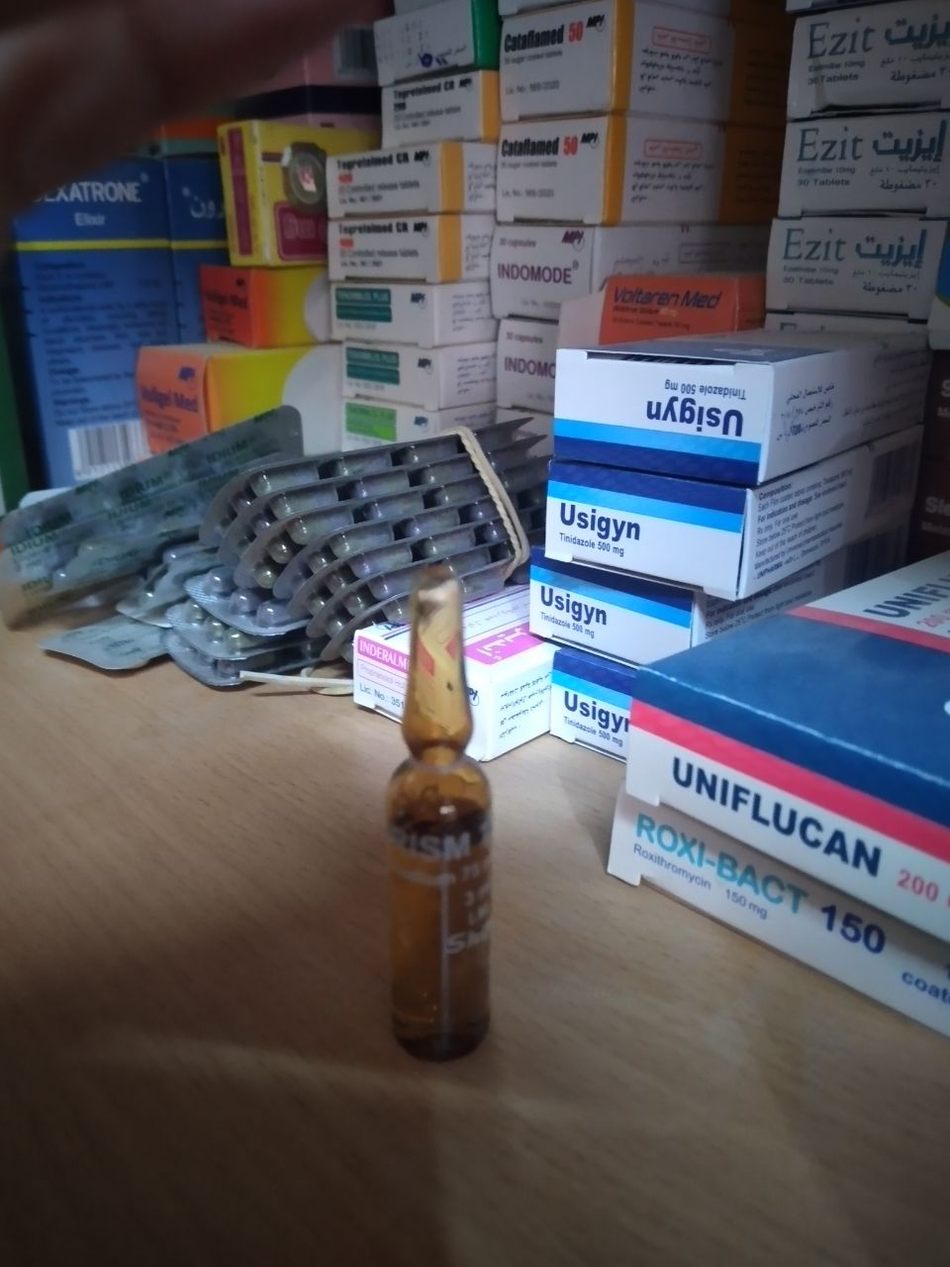Medicine: (614, 594, 950, 904), (363, 558, 554, 1069), (587, 785, 950, 1029), (541, 307, 950, 465), (531, 442, 950, 591), (13, 168, 195, 495), (488, 115, 736, 234), (498, 16, 749, 132), (185, 106, 360, 264), (755, 218, 950, 346), (112, 323, 300, 455), (524, 561, 716, 680), (485, 238, 736, 320), (769, 109, 950, 214), (320, 135, 528, 224), (205, 251, 340, 386), (320, 261, 511, 356), (320, 340, 541, 409), (785, 13, 950, 102), (323, 214, 521, 287), (475, 317, 557, 472)
